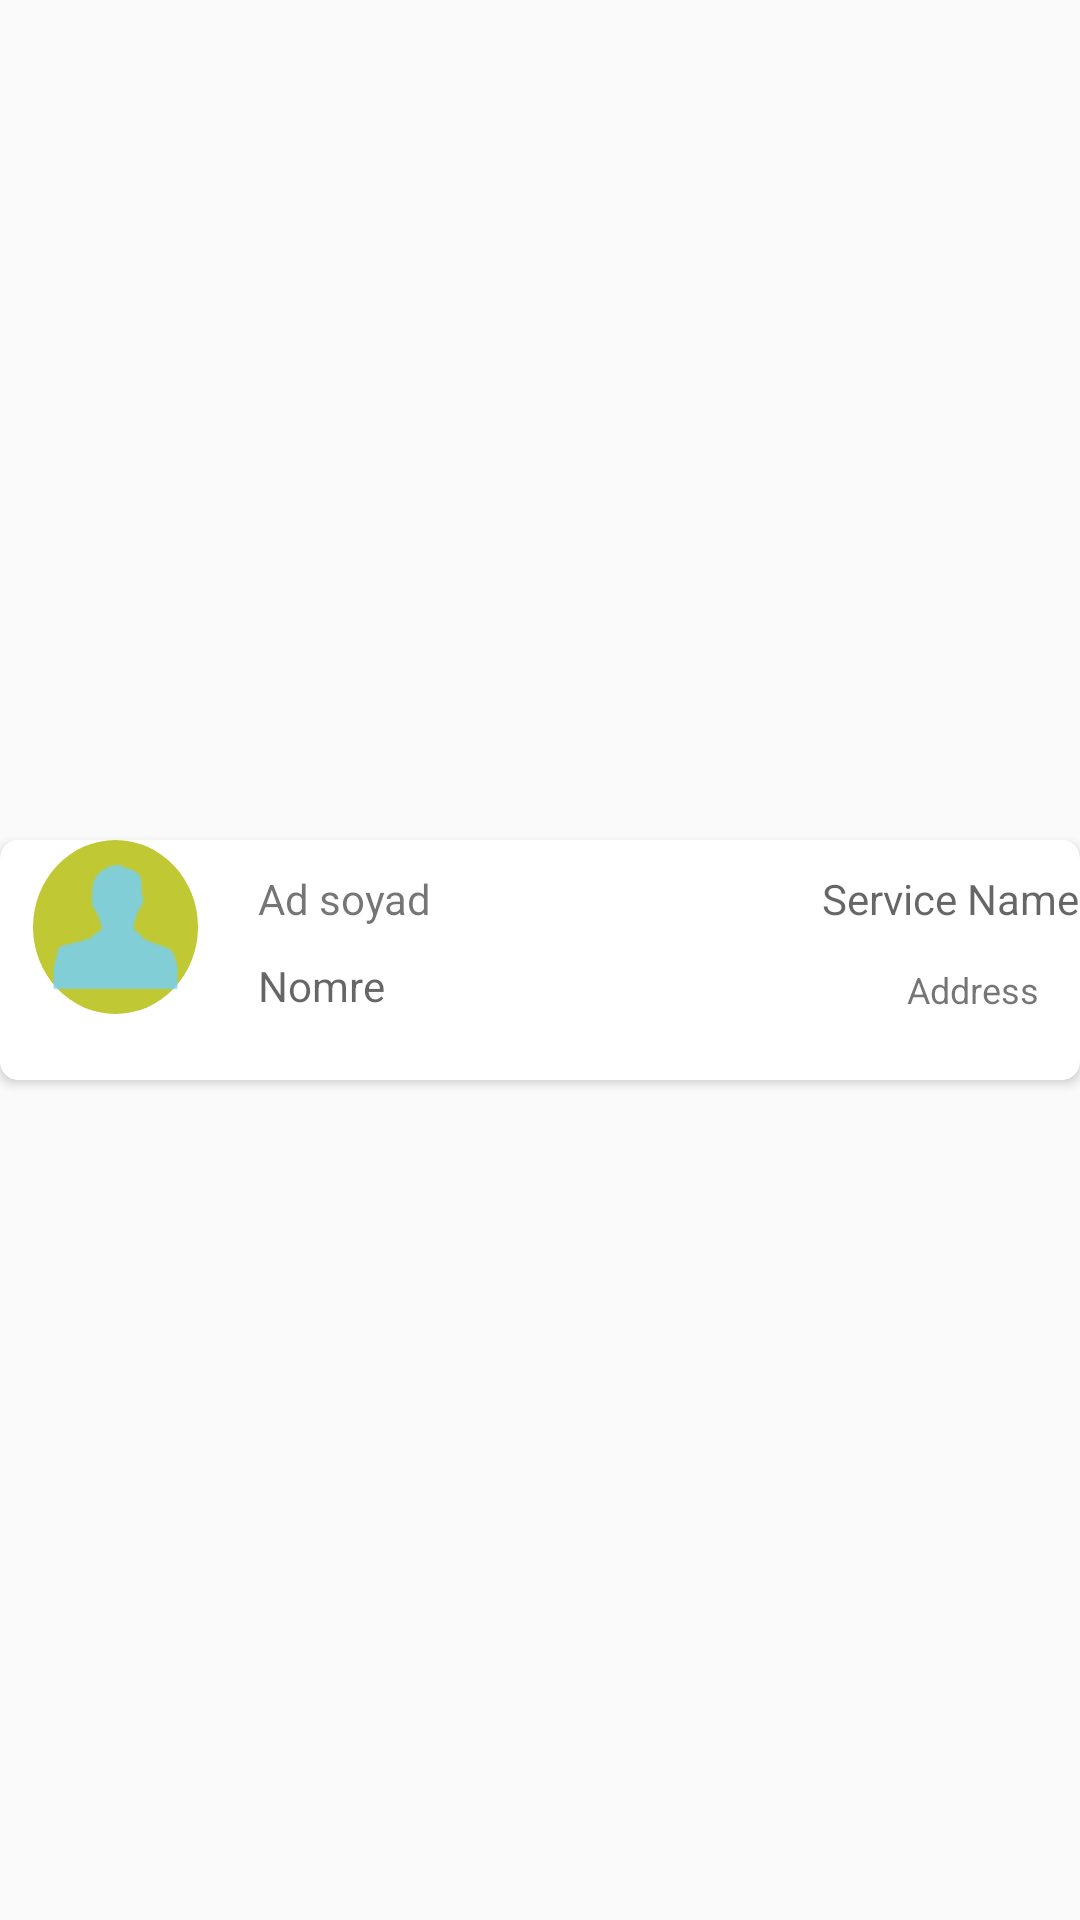

Named icons in this screenshot (1080*1920) and their centers, (x,y):
pers: (115,927)
